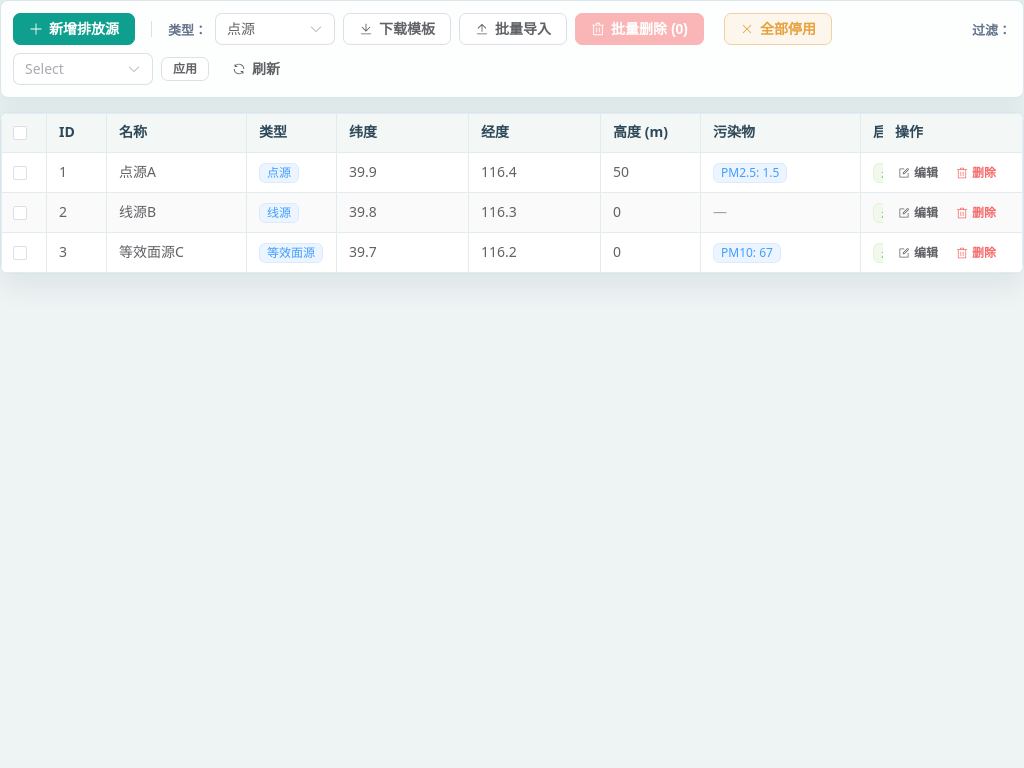
it: SourcesView › 新增按钮打开排放源对话框
Click the button "新增排放源" at (74, 29), box [13,13,135,45]
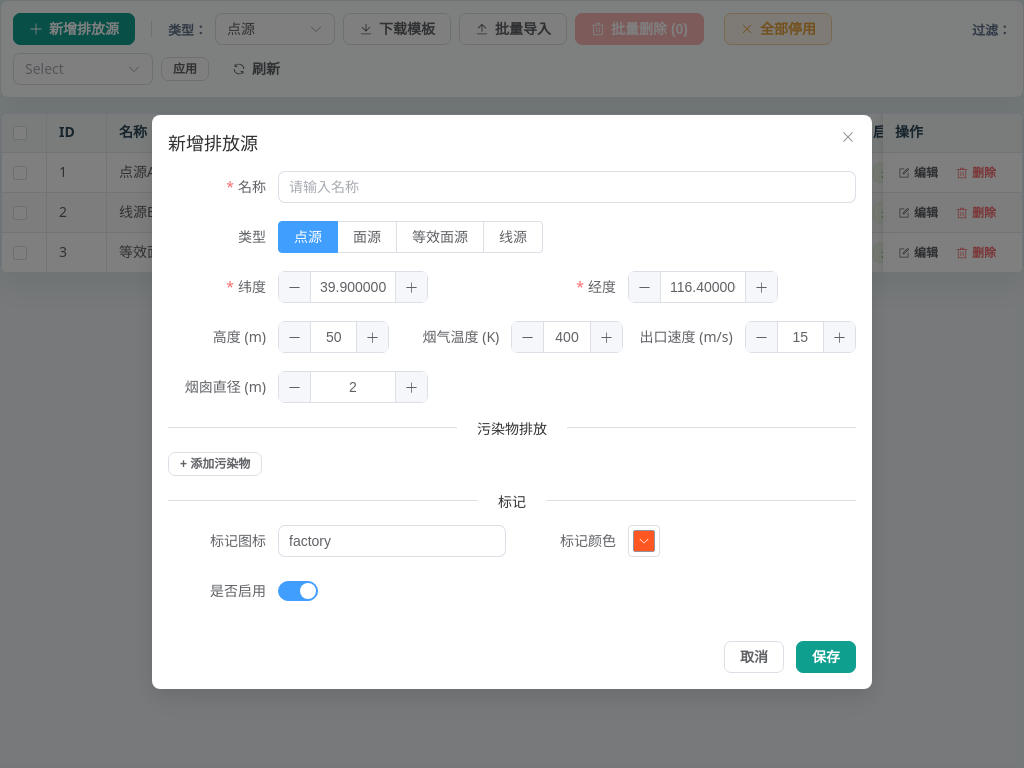
Check: the element that starts with "新增排放源" is shown, box [152,115,872,689]
Check: the element that starts with "新增排放源" shows "点源", box [294,227,322,246]
Check: the element that starts with "新增排放源" shows "面源", box [353,227,381,246]
